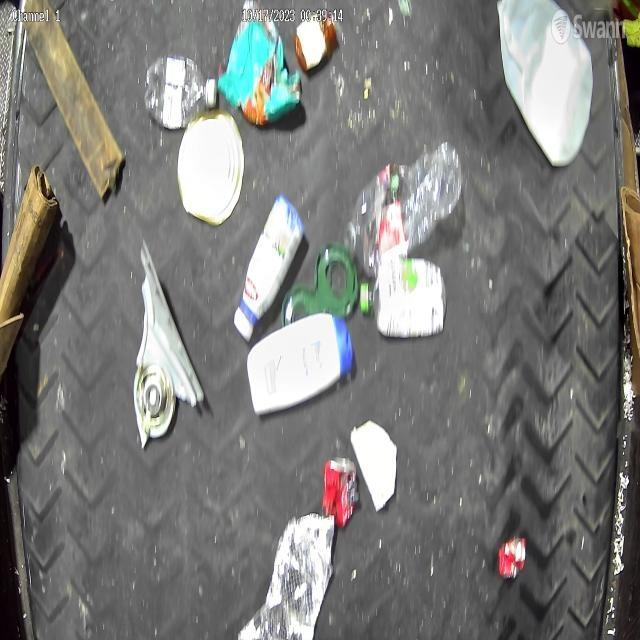milk_jug: (498, 0, 594, 168)
non_white_jug: (246, 314, 356, 419)
plastic_bottle: (346, 142, 462, 275), (144, 56, 216, 132)
